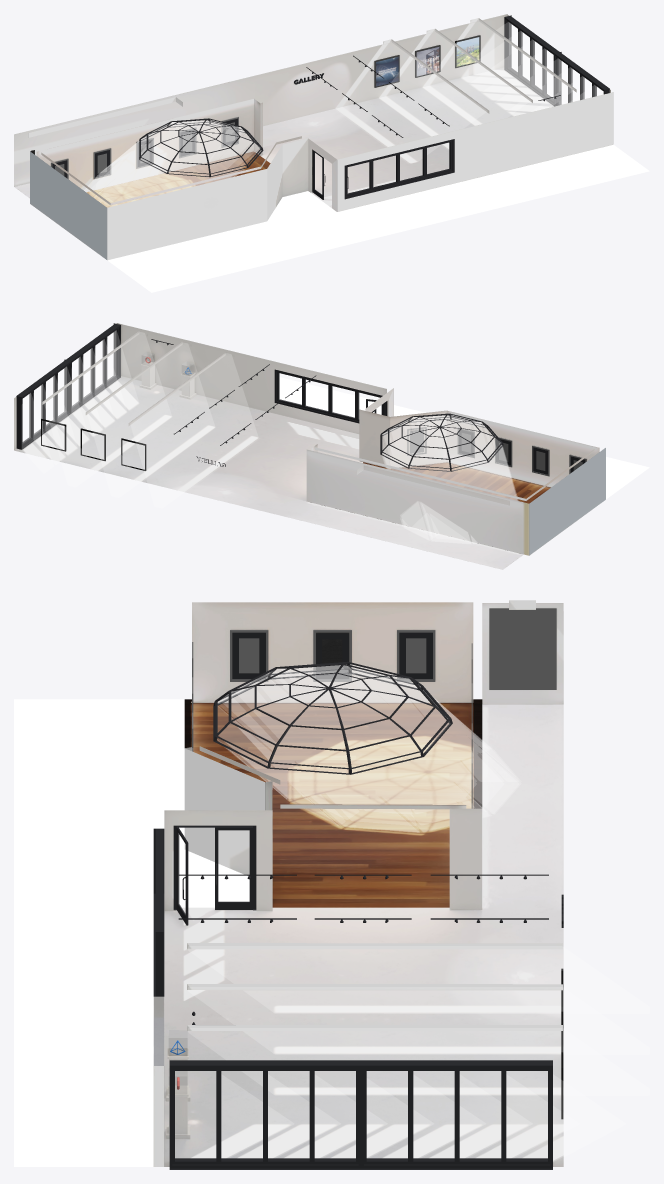
File: art-gallery28.glb
3 renders of one model, top to bottom at view 1: azimuth 30°, elevation 25°; view 2: azimuth 150°, elevation 25°; view 3: azimuth 270°, elevation 25°, orthographic. The views are drawn at different scales.
Visible parts, largest first — view 1: ParedesPrincipais, fake_volume.001, Paredes, Chao_entrada.001, Chao_entrada, Metais, Chao_madeira, Sphere.002, Todos os quadros, p_DNA Project, Quadros_entrada, p_Real Estate Project (+1 smaller); view 2: fake_volume.001, Chao_entrada, ParedesPrincipais, Paredes, Metais, Chao_entrada.001, Chao_madeira, Sphere.002, Todos os quadros, Quadros_entrada; view 3: fake_volume.001, Chao_entrada, Chao_entrada.001, Chao_madeira, Paredes, Metais, ParedesPrincipais, Todos os quadros, Sphere.002.
Part boxes in pixels (<box>): ParedesPrincipais: <box>14,14,613,211</box>; fake_volume.001: <box>84,19,602,207</box>; Paredes: <box>30,99,336,260</box>; Chao_entrada.001: <box>107,144,649,292</box>; Chao_entrada: <box>14,67,553,207</box>; Metais: <box>306,15,609,199</box>; Chao_madeira: <box>86,151,270,207</box>; Sphere.002: <box>139,118,263,177</box>; Todos os quadros: <box>51,117,238,179</box>; p_DNA Project: <box>376,56,398,86</box>; Quadros_entrada: <box>374,35,480,87</box>; p_Real Estate Project: <box>416,47,439,76</box>; fake_volume.001: <box>22,331,518,543</box>; Chao_entrada: <box>14,376,523,569</box>; ParedesPrincipais: <box>14,323,529,555</box>; Paredes: <box>311,388,605,555</box>; Metais: <box>16,323,387,449</box>; Chao_entrada.001: <box>279,377,649,499</box>; Chao_madeira: <box>363,462,550,503</box>; Sphere.002: <box>380,413,503,471</box>; Todos os quadros: <box>407,427,586,476</box>; Quadros_entrada: <box>41,418,146,470</box>; fake_volume.001: <box>188,665,649,1161</box>; Chao_entrada: <box>153,704,563,1166</box>; Chao_entrada.001: <box>14,699,249,1166</box>; Chao_madeira: <box>184,699,482,907</box>; Paredes: <box>184,602,473,876</box>; Metais: <box>153,825,552,1169</box>; ParedesPrincipais: <box>153,600,563,1166</box>; Todos os quadros: <box>192,608,556,808</box>; Sphere.002: <box>213,661,452,774</box>.
Size of the model in its own units: 62.24 by 8.29 by 35.64.
19 materials, 8 textured.
